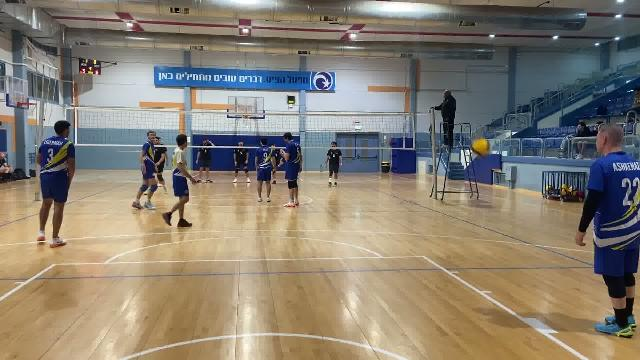ball: (469, 135, 494, 158)
